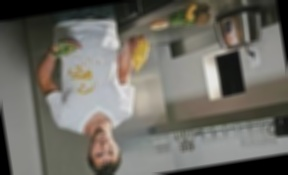mustard: (65, 60, 96, 84), (76, 81, 98, 97), (97, 59, 103, 65)
